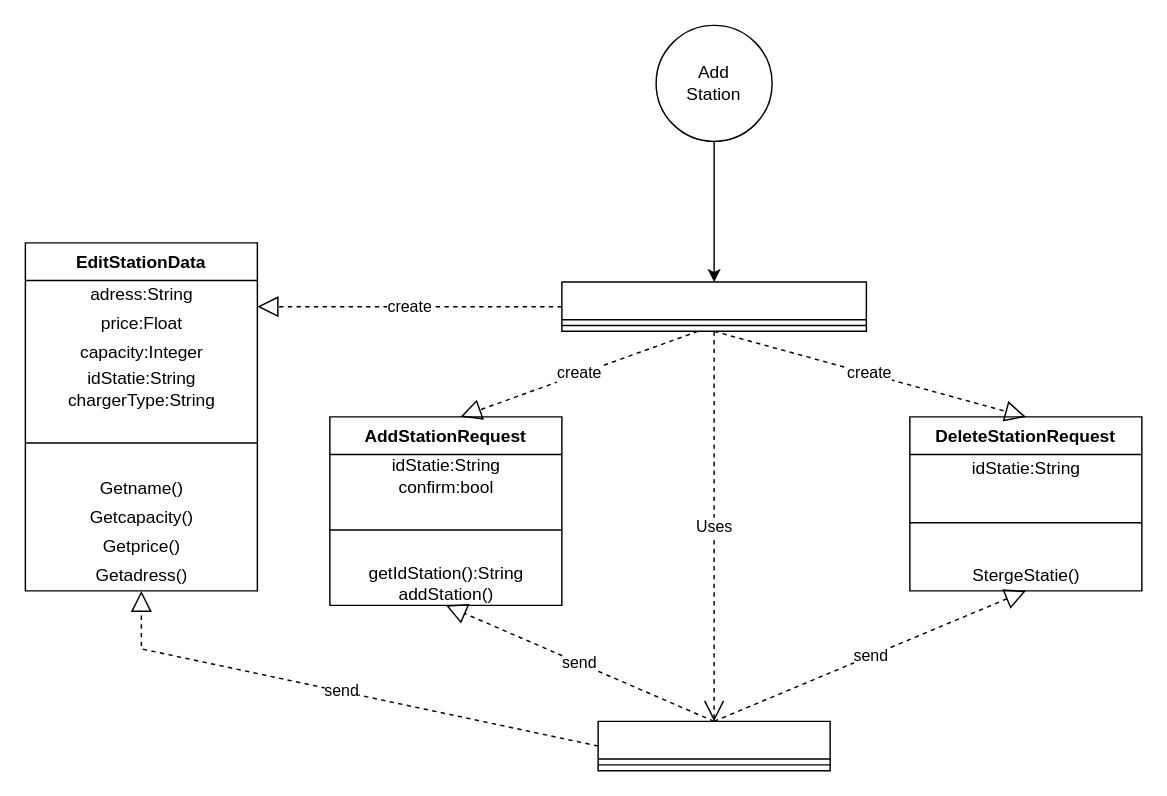
Some shapes in this 1167 by 796 pixel diagram are drawn without their labels. The centre of each missing label's shape, as x and y in pixels:
"APIConnection" belongs at pixel 713 745.
"StationManagementImplementation" belongs at pixel 713 306.
